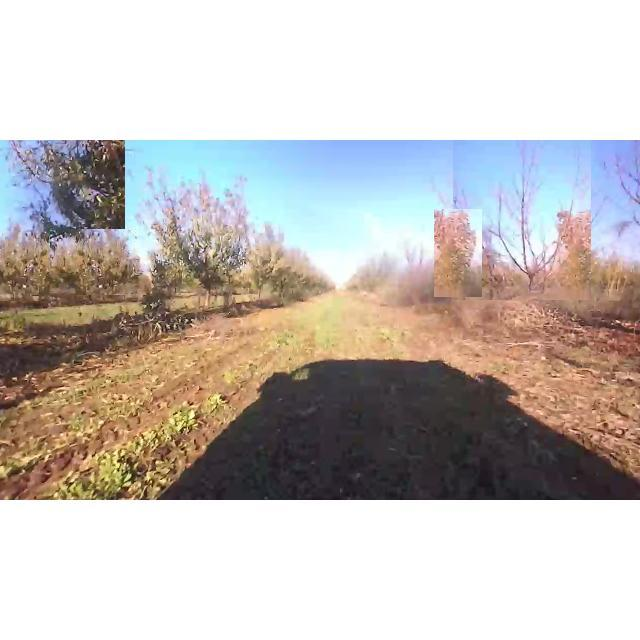direk: (453, 140, 591, 300), (130, 156, 262, 316), (0, 139, 124, 300), (50, 229, 136, 295), (434, 209, 482, 297), (258, 250, 300, 304)
